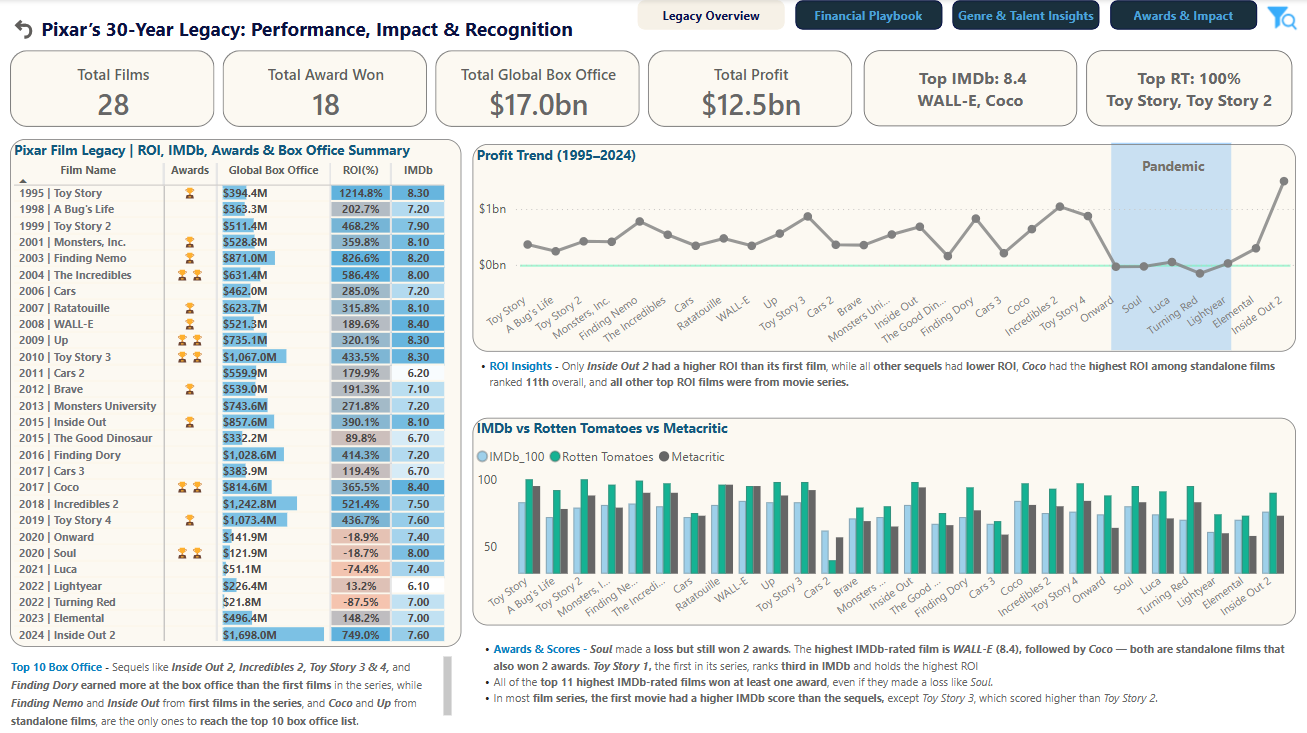

This screenshot's page, from the dashboard's own definition file:
{"tool":"powerbi","page":{"name":"Legacy Overview","canvas":[1280,720],"ordinal":0},"visuals":[{"type":"pivotTable","title":"  Pixar Film Legacy | ROI, IMDb, Awards & Box Office Summary","fields":{"Rows":["pixar_films.Film Label"],"Values":["Measure Table 2.Award Recognition2","Sum(pixar_box_office.box_office_worldwide)","Measure Table - Overview.Film ROI %","Sum(pixar_public_response.imdb_score)"]},"box":[9.8,137,441.4,496.5],"z":0},{"type":"shape","title":"Pandemic shape","box":[1087.3,141.1,117.4,203],"z":0,"group":"g1"},{"type":"textbox","box":[35.5,11,737.4,39.1],"z":1000},{"type":"textbox","box":[1089.7,149.3,116.2,35.5],"z":1000,"group":"g1"},{"type":"shape","title":"Line","box":[508.9,113,753.3,297.1],"z":2000,"group":"g1"},{"type":"clusteredColumnChart","title":"IMDb vs Rotten Tomatoes vs Metacritic ","fields":{"Y":["Sum(pixar_public_response.IMDb_Score_100)","Sum(pixar_public_response.rotten_tomatoes_score)","Sum(pixar_public_response.metacritic_score)"],"Category":["pixar_films.film"]},"box":[462.2,409.6,805.8,203],"z":2000},{"type":"actionButton","box":[9.8,15.9,26.9,26.9],"z":3000},{"type":"lineChart","title":"Profit Trend (1995–2024)","fields":{"Y":["Max(pixar_box_office.Profit)"],"Category":["pixar_films.film"]},"box":[462.4,142.3,805.8,203],"z":3000,"group":"g1"},{"type":"pageNavigator","box":[623.6,1.2,607.7,29.3],"z":4000},{"type":"cardVisual","fields":{"Data":["Measure Table - Overview.Total Films","Measure Table - Overview.Total Award Won","Measure Table - Overview.Total Global Box Office","Measure Table - Overview.Total Profit"]},"box":[9.8,50.1,826.6,75.8],"z":5000},{"type":"group","id":"g1","title":"ROI trends","box":[462.4,113,805.8,297.1],"z":6000},{"type":"actionButton","title":"Slicer button1","box":[1231.4,0,48.9,42.8],"z":7000},{"type":"card","fields":{"Values":["Measure Table - Overview.Highest IMDb Film"]},"box":[845,50.1,209.1,74.6],"z":9000},{"type":"card","fields":{"Values":["Measure Table - Overview.Highest RT Film"]},"box":[1062.6,50.1,201.8,74.6],"z":10000},{"type":"textbox","box":[9.8,643.2,432.9,70.9],"z":11000},{"type":"textbox","box":[459.8,332.6,802.2,77],"z":12000},{"type":"textbox","box":[459.8,622.4,820.5,91.7],"z":13000}]}

Visuals, with their boxes in screenshot pixels (x1, y1, x2, y2), scaled from the page's 1280x720 canvas onto the 1307x733 screenshot:
"  Pixar Film Legacy | ROI, IMDb, Awards & Box Office Summary" pivotTable: x1=10, y1=139, x2=461, y2=645
"Pandemic shape" shape: x1=1110, y1=144, x2=1230, y2=350
textbox: x1=36, y1=11, x2=789, y2=51
textbox: x1=1113, y1=152, x2=1231, y2=188
"Line" shape: x1=520, y1=115, x2=1289, y2=418
"IMDb vs Rotten Tomatoes vs Metacritic " clusteredColumnChart: x1=472, y1=417, x2=1295, y2=624
actionButton: x1=10, y1=16, x2=37, y2=44
"Profit Trend (1995–2024)" lineChart: x1=472, y1=145, x2=1295, y2=352
pageNavigator: x1=637, y1=1, x2=1257, y2=31
cardVisual - Measure Table - Overview.Total Films x Measure Table - Overview.Total Award Won: x1=10, y1=51, x2=854, y2=128
"ROI trends" group: x1=472, y1=115, x2=1295, y2=418
"Slicer button1" actionButton: x1=1257, y1=0, x2=1306, y2=44
card - Measure Table - Overview.Highest IMDb Film: x1=863, y1=51, x2=1076, y2=127
card - Measure Table - Overview.Highest RT Film: x1=1085, y1=51, x2=1291, y2=127
textbox: x1=10, y1=655, x2=452, y2=727
textbox: x1=469, y1=339, x2=1289, y2=417
textbox: x1=469, y1=634, x2=1306, y2=727
